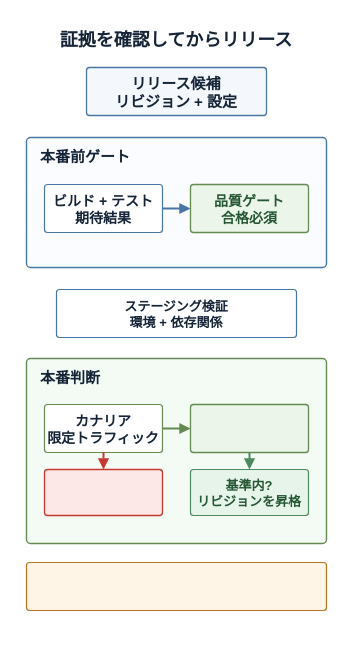
This 353x658 diagram has some shape labels left out. The shapes that lost their labels are listed below. From the top down, each one's box as (x1, y1, x2, y2) in pixels, then its label:
(189, 403, 309, 453): 監視ゲート 基準を満たすか?
(43, 468, 163, 516): 安定版へ戻す
(25, 561, 327, 611): リリース前にトリガー、対象リビジョン、 データ互換性を定義する。
